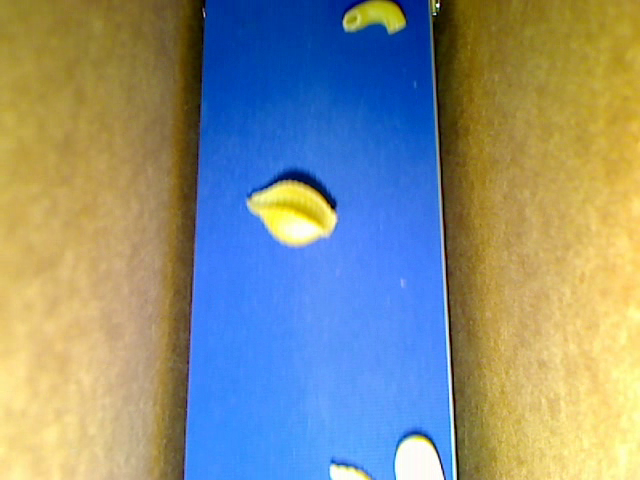elbow: (342, 1, 405, 35)
shell: (246, 179, 337, 247)
